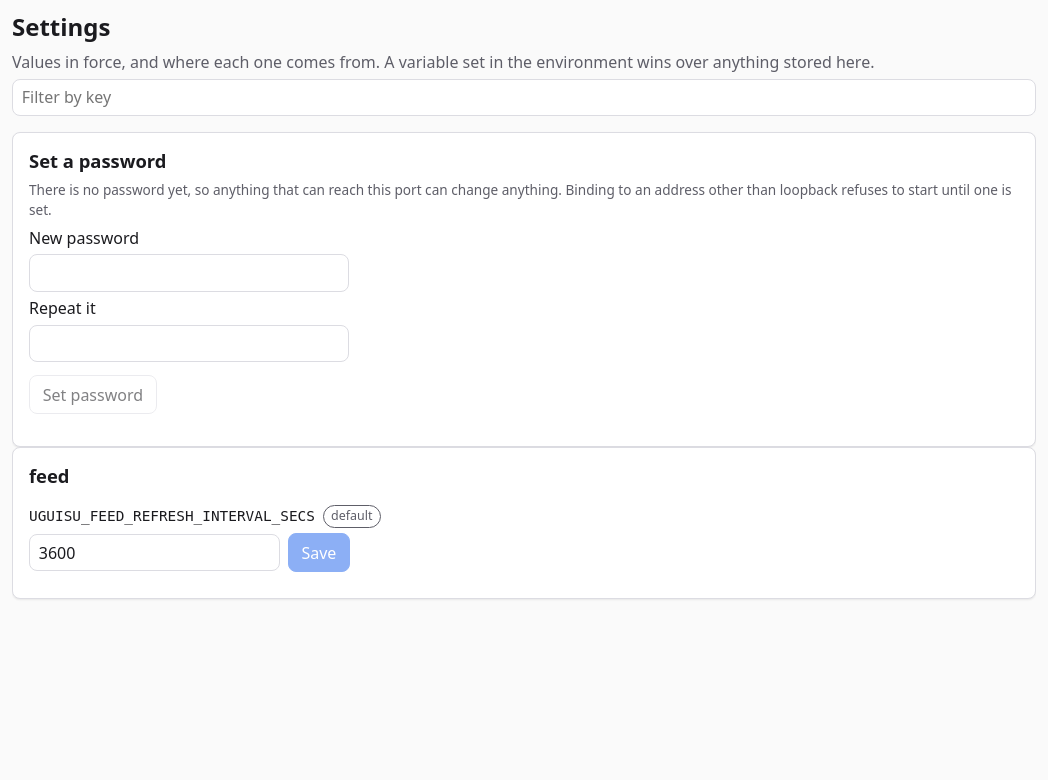
Test: settings view › explains a write the environment blocks
Replace the text in the field named "Value of UGUISU_FEED_REFRESH_INTERVAL_SECS" with "900" at (154, 553), box [29,534,280,571]
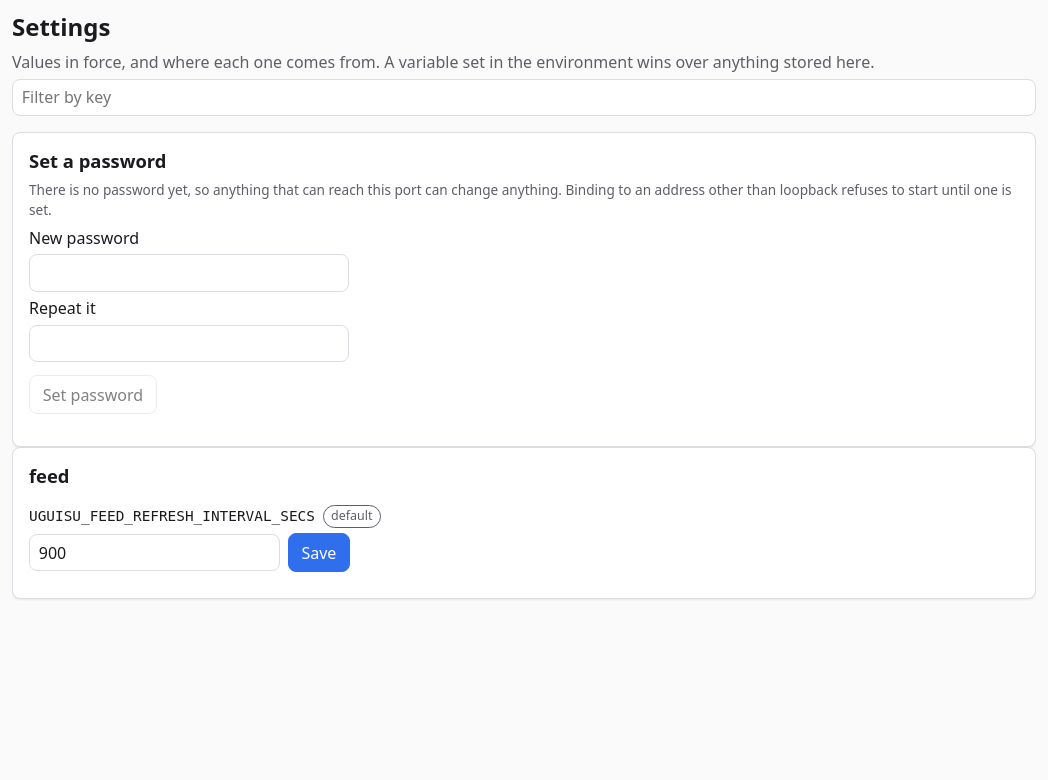
Expected: the button "Save" is enabled
Click the button "Save".
click(319, 553)  # box [288,533,350,572]
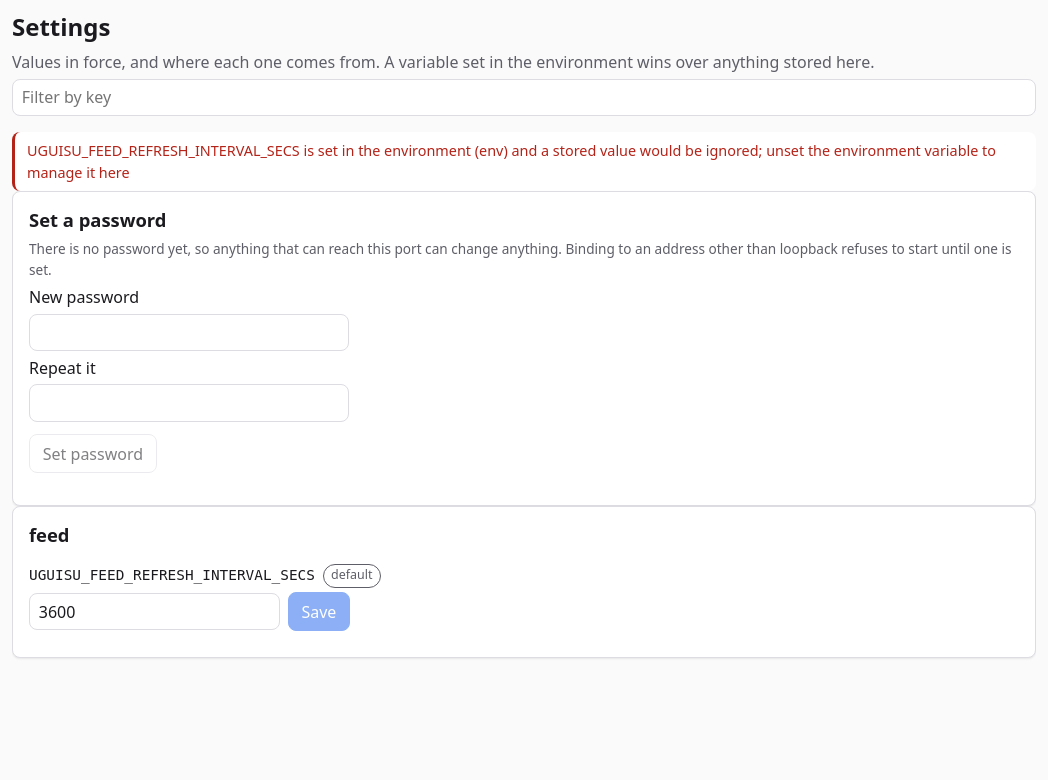
Expected: the message shows "unset the environment variable", [27,141,996,182]
